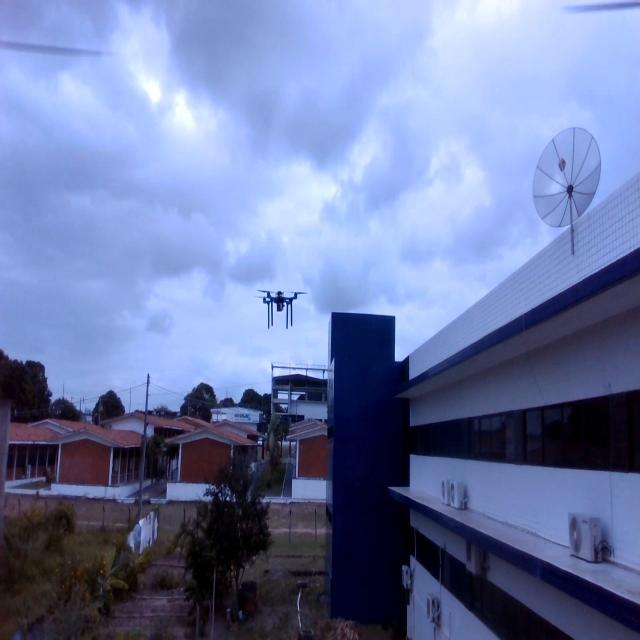-uav-: (244, 273, 318, 351)
